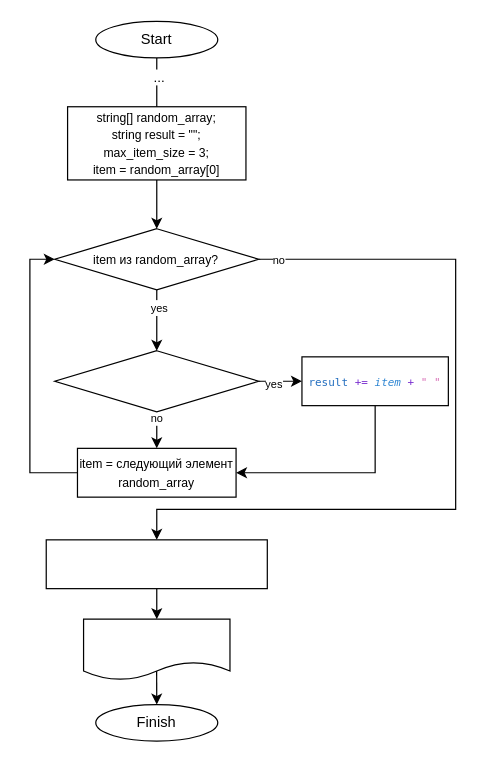
Some shapes in this 487 by 763 pixel diagram are drawn without their labels. Here are the shapes that lost their labels. From the top down, the centre of each, then its label:
At [156,381]: "len(item) <= max_item_size?".
At [156,564]: "result = result. Trim (). Split ()".
At [156,649]: "Вывод result".
